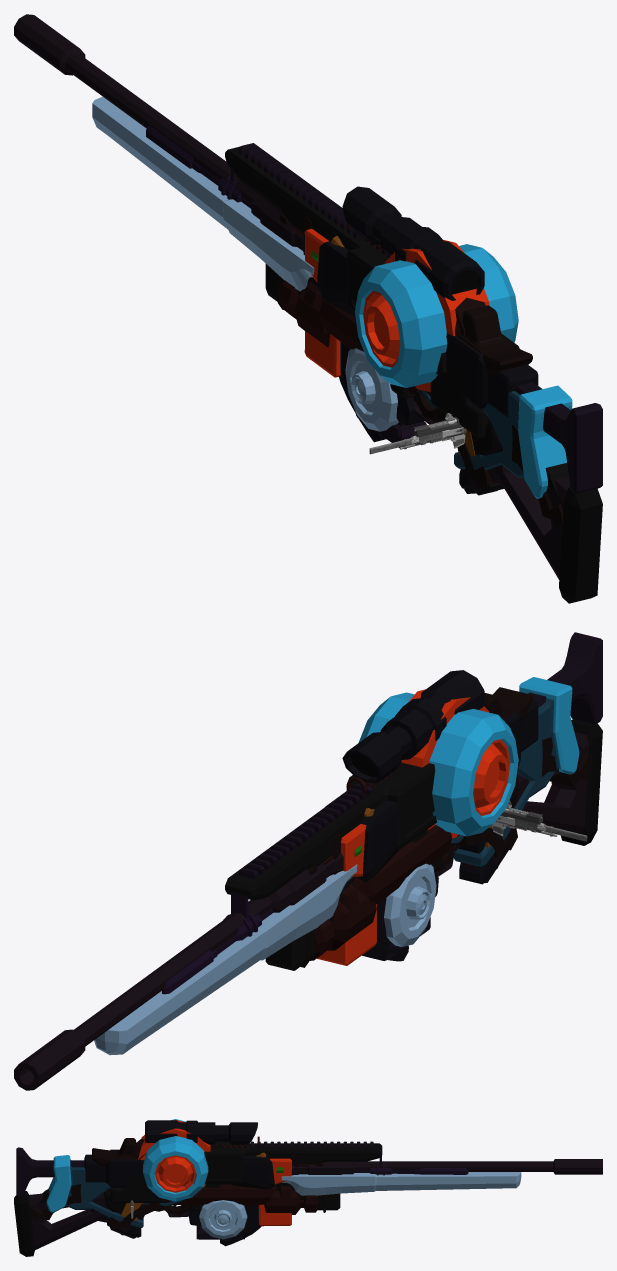
Rendered from weapons.glb.
3 renders of one model, top to bottom at view 1: azimuth 30°, elevation 25°; view 2: azimuth 150°, elevation 25°; view 3: azimuth 270°, elevation 25°, orthographic. The views are drawn at different scales.
Parts seen in each view (by area): view 1: GP_Sniper_rifle_q, GP_Rifle_q, GP_Lightning_Gun_q, GP_LongPistol_q, GP_LongPistol_small_q, GP_Ray_Gun_q; view 2: GP_Sniper_rifle_q, GP_Rifle_q, GP_Lightning_Gun_q, GP_LongPistol_q, GP_LongPistol_small_q, Gun_Sniper_q; view 3: GP_Sniper_rifle_q, GP_Rifle_q, GP_Lightning_Gun_q, GP_LongPistol_q, GP_LongPistol_small_q, GP_Ray_Gun_q.
Boxes of the visible parts, left/top/right/bottom form: GP_Sniper_rifle_q: left=14, top=14, right=602, bottom=603; GP_Rifle_q: left=146, top=125, right=602, bottom=493; GP_Lightning_Gun_q: left=304, top=229, right=572, bottom=498; GP_LongPistol_q: left=294, top=217, right=568, bottom=527; GP_LongPistol_small_q: left=277, top=214, right=496, bottom=487; GP_Ray_Gun_q: left=311, top=223, right=485, bottom=456; GP_Sniper_rifle_q: left=14, top=719, right=602, bottom=1090; GP_Rifle_q: left=162, top=632, right=602, bottom=994; GP_Lightning_Gun_q: left=317, top=677, right=579, bottom=965; GP_LongPistol_q: left=323, top=687, right=593, bottom=925; GP_LongPistol_small_q: left=300, top=827, right=517, bottom=967; Gun_Sniper_q: left=492, top=808, right=587, bottom=841; GP_Sniper_rifle_q: left=14, top=1156, right=602, bottom=1256; GP_Rifle_q: left=16, top=1120, right=468, bottom=1239; GP_Lightning_Gun_q: left=46, top=1119, right=291, bottom=1227; GP_LongPistol_q: left=28, top=1138, right=308, bottom=1221; GP_LongPistol_small_q: left=107, top=1162, right=325, bottom=1229; GP_Ray_Gun_q: left=121, top=1136, right=283, bottom=1220.
Size of the model in its own units: 1.98 by 2.87 by 11.53.
Materials: 34 (4 with a texture image).
